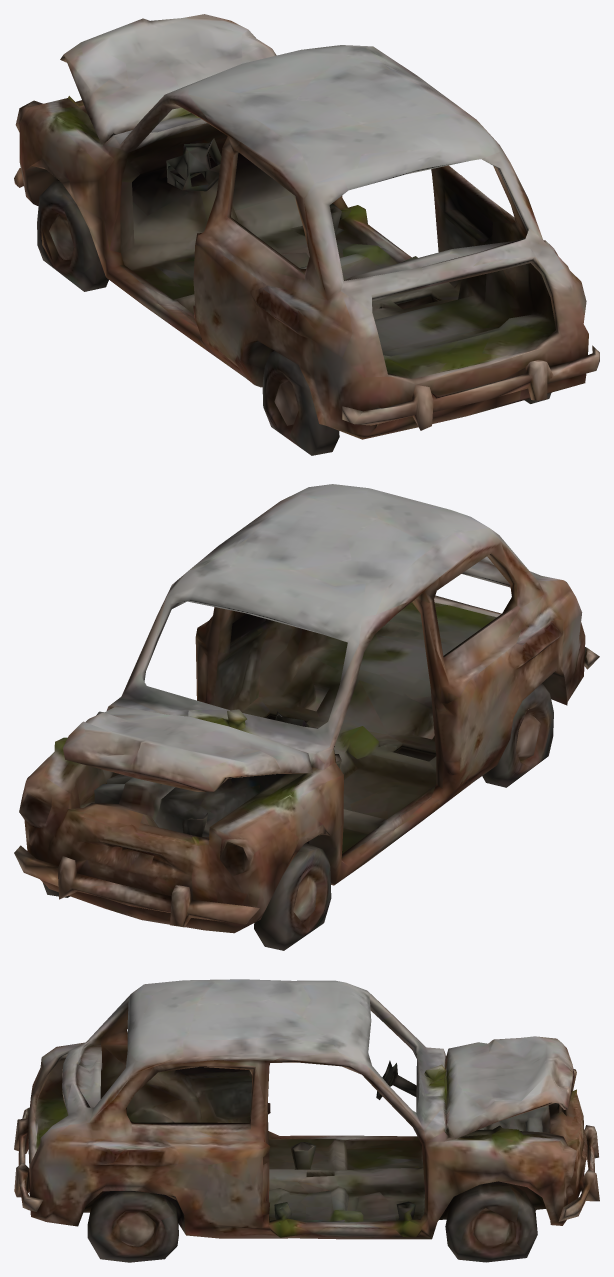
Rendered from ruin-car.glb.
The picture shows the model from 3 angles, top to bottom: view 1: azimuth 30°, elevation 25°; view 2: azimuth 150°, elevation 25°; view 3: azimuth 270°, elevation 25°; orthographic projection. The views are drawn at different scales.
Visible parts, largest first — view 1: tripo_node_f7816419-9c04-4fef-ab49-cfe428fab64f; view 2: tripo_node_f7816419-9c04-4fef-ab49-cfe428fab64f; view 3: tripo_node_f7816419-9c04-4fef-ab49-cfe428fab64f.
Part boxes in pixels (x1,y1,x2,y2): tripo_node_f7816419-9c04-4fef-ab49-cfe428fab64f: (14, 14, 599, 455); tripo_node_f7816419-9c04-4fef-ab49-cfe428fab64f: (14, 484, 599, 950); tripo_node_f7816419-9c04-4fef-ab49-cfe428fab64f: (14, 979, 599, 1262).
Bounding box in the file's own units: 0.4258 × 0.3913 × 1.
1 material, 1 textured.
